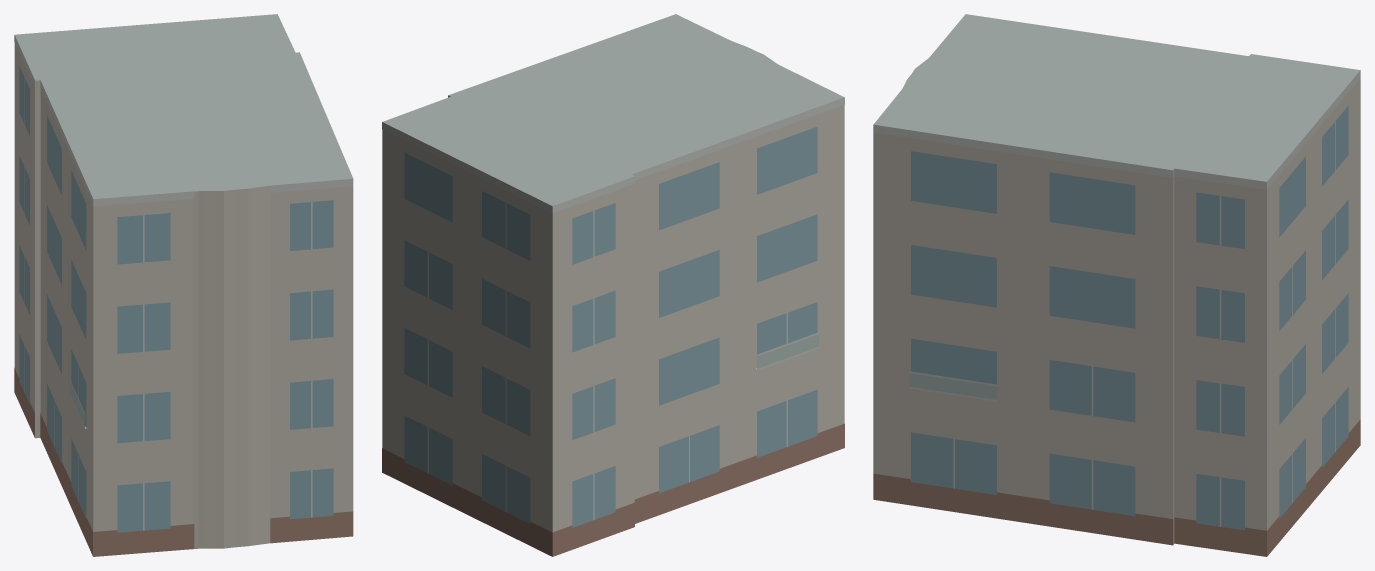
File: survey-upis-32829003.glb
The picture shows the model from 3 angles, left to right: view 1: azimuth 30°, elevation 25°; view 2: azimuth 150°, elevation 25°; view 3: azimuth 270°, elevation 25°; orthographic projection. The views are drawn at different scales.
Parts seen in each view (by area): view 1: survey-upis-32829003.tmp; view 2: survey-upis-32829003.tmp; view 3: survey-upis-32829003.tmp.
Part boxes in pixels (x1,y1,x2,y2): survey-upis-32829003.tmp: (14, 14, 353, 556); survey-upis-32829003.tmp: (382, 14, 844, 556); survey-upis-32829003.tmp: (873, 14, 1360, 556).
Bounding box in the file's own units: 11.34 × 11.8 × 13.9.
